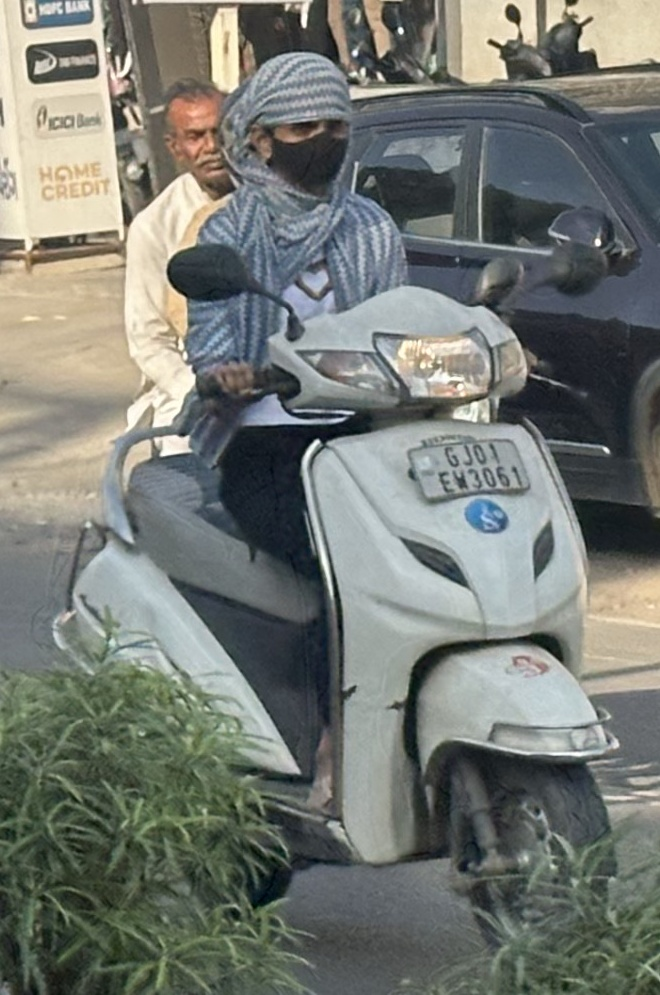BikeWithRider: (53, 51, 623, 956)
NoHelmet: (214, 49, 361, 194)
